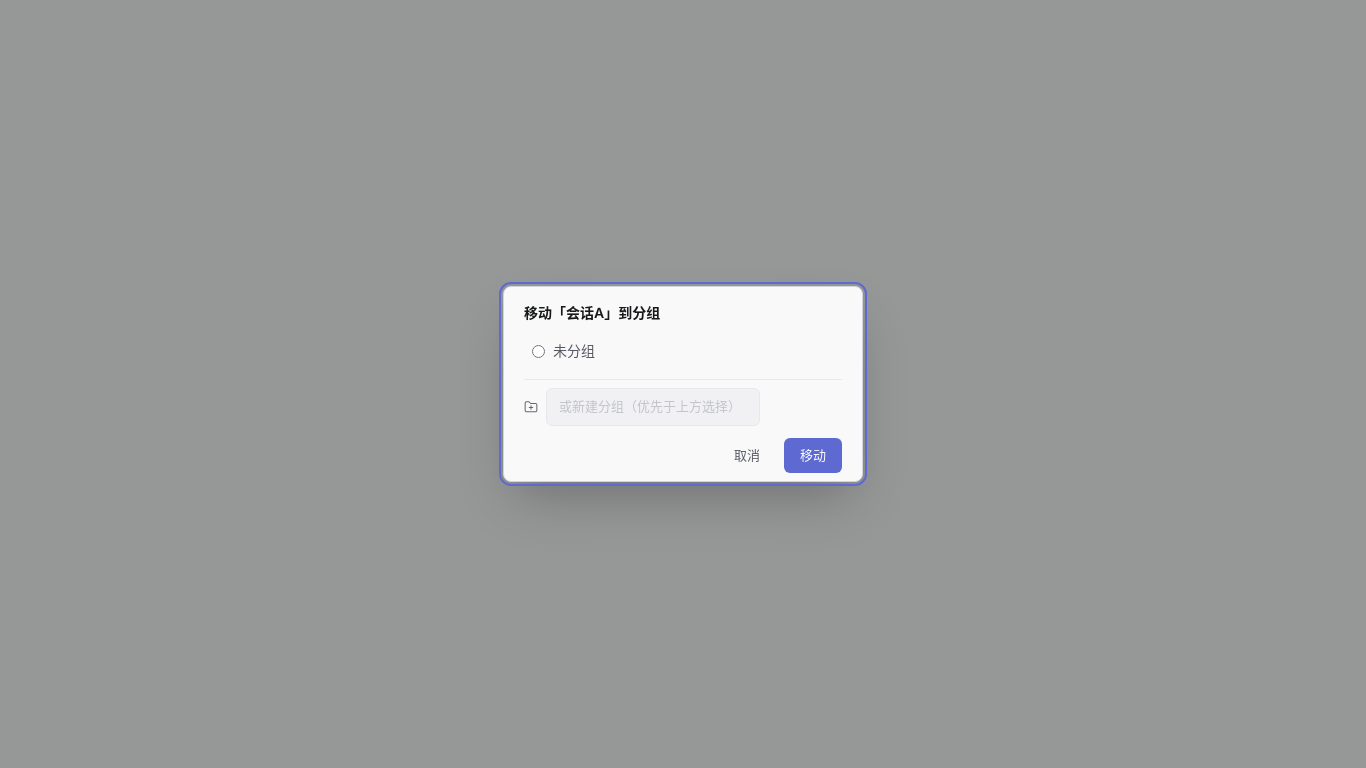
Test case: MoveToGroupDialog — 错误路径 › moveToGroup 失败 → 错误文案可见、refreshSessionList 不调
The width and height of the screenshot is (1366, 768).
Step 1. Click the button "移动" → (813, 455), box [784,438,842,473]
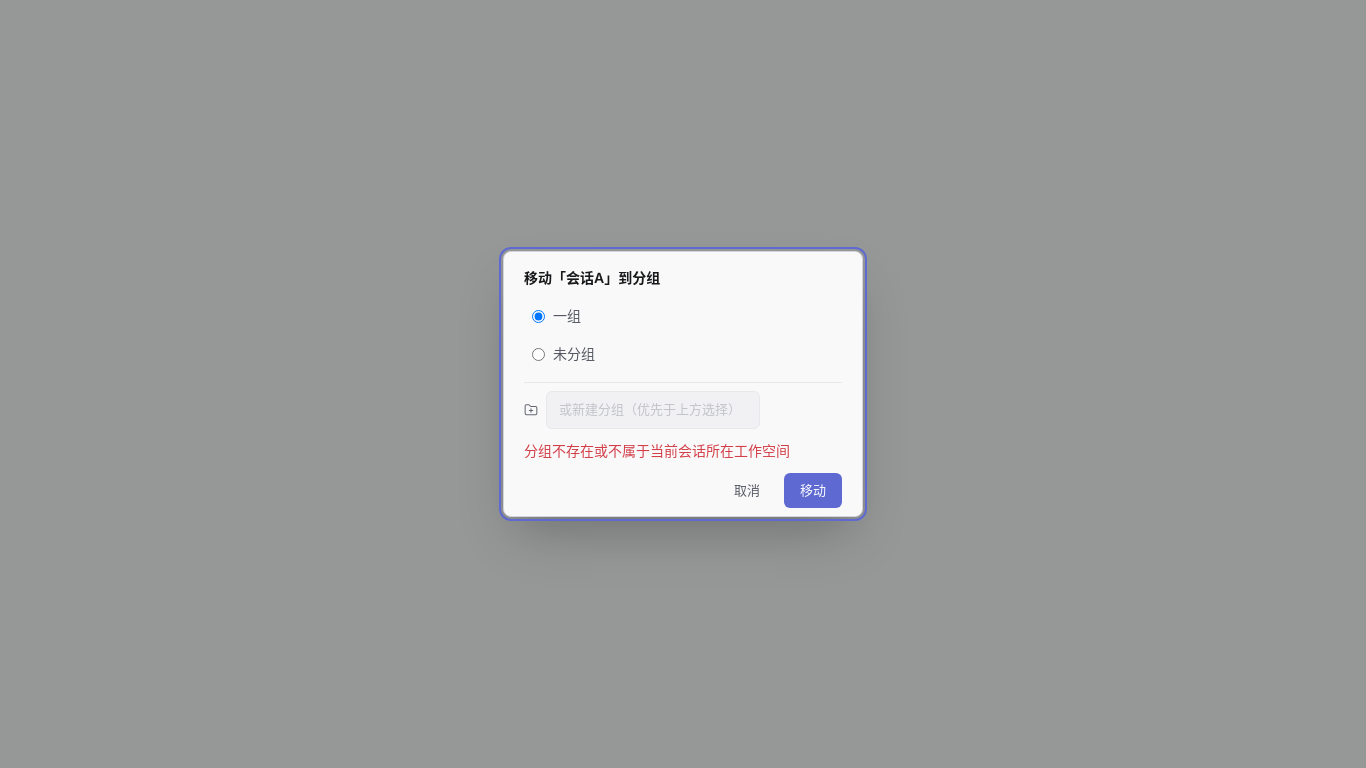
Expected: the text "分组不存在或不属于当前会话所在工作空间" is shown, [524,442,790,458]
